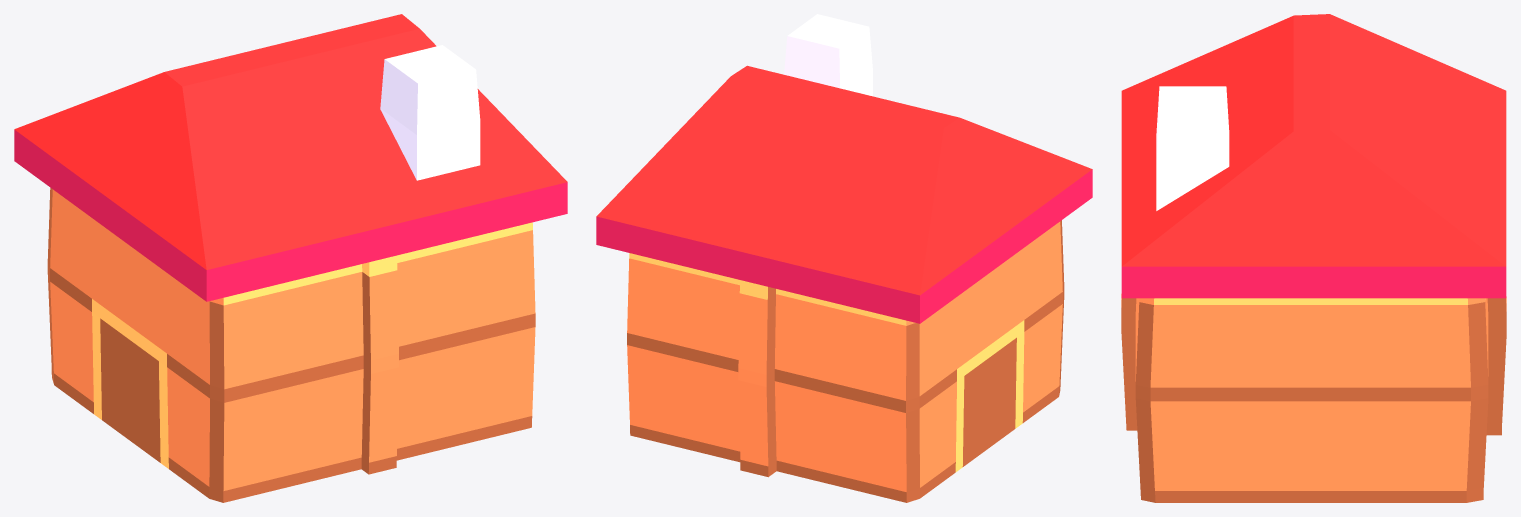
The model's file is house02.fbx.
3 renders of one model, left to right at view 1: azimuth 30°, elevation 25°; view 2: azimuth 150°, elevation 25°; view 3: azimuth 270°, elevation 25°, orthographic. The views are drawn at different scales.
Visible parts, largest first — view 1: base, roof, shadows, roofshadows, chimney, lights; view 2: roof, base, shadows, roofshadows, chimney, lights; view 3: roof, base, shadows, roofshadows, chimney, lights.
Part boxes in pixels (x1,y1,x2,y2): base: (50,189,535,490); roof: (14,14,567,269); shadows: (47,188,535,502); roofshadows: (14,129,567,301); chimney: (380,45,480,180); lights: (92,222,532,468); roof: (596,65,1092,295); base: (627,221,1062,491); shadows: (627,220,1064,502); roofshadows: (596,169,1092,323); chimney: (784,14,872,96); lights: (629,253,1024,471); roof: (1121,14,1506,266); base: (1121,294,1506,490); shadows: (1121,298,1506,502); roofshadows: (1121,266,1506,298); chimney: (1156,86,1229,210); lights: (1154,298,1485,304).
Size of the model in its own units: 4.19 by 4.02 by 3.87.
